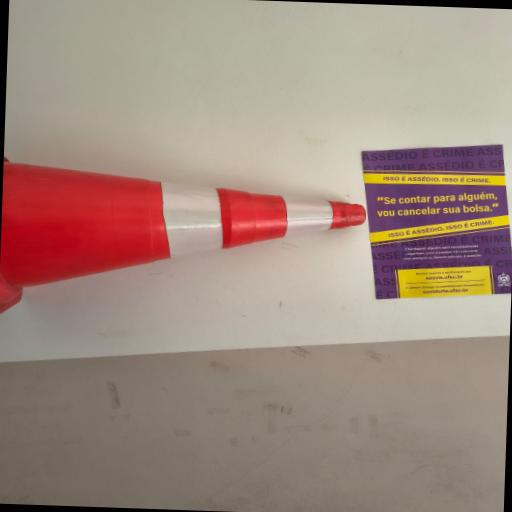cone: (2, 155, 366, 310)
